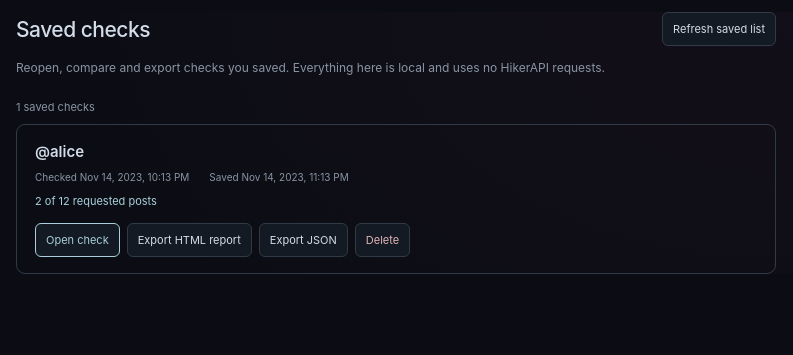
Test case: saved checks view › does not report cancelled exports as successful and sanitizes export errors
Click the button "Export HTML report" at {"x": 189, "y": 240}, box 127,223 -> 252,257
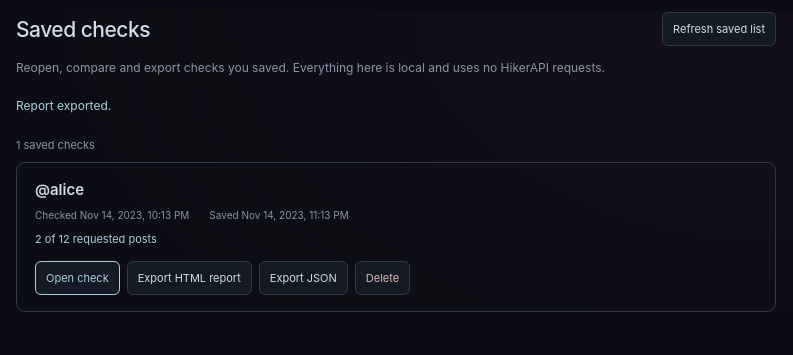
Expected: the message "Report exported." is shown, 16,98 -> 111,113
Click the button "Export HTML report" at {"x": 189, "y": 278}, box 127,261 -> 252,295
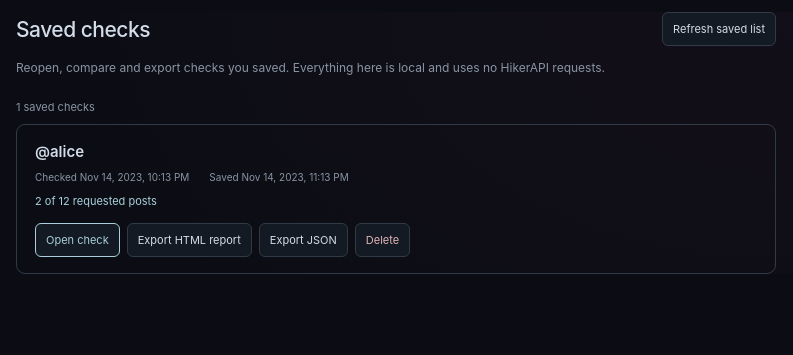
Click the button "Export HTML report" at {"x": 189, "y": 240}, box 127,223 -> 252,257
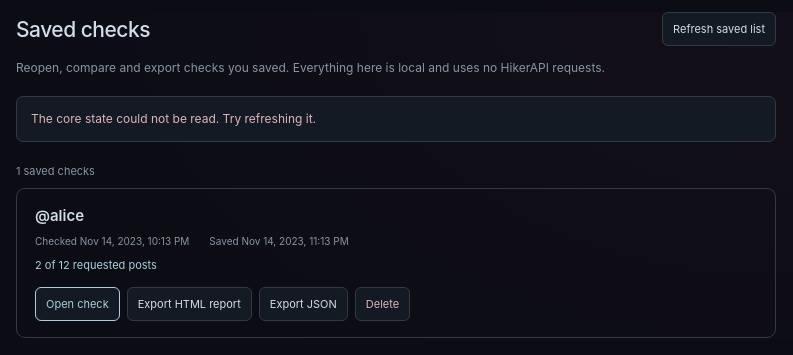
Expected: the message "The core state could not be read. Try refreshing it." is shown, 16,96 -> 776,142
